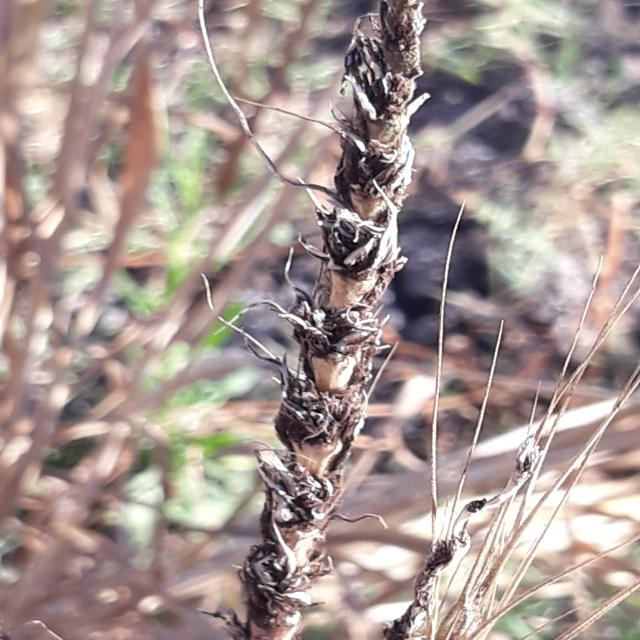loose_charred: (190, 0, 422, 640), (362, 384, 639, 640)
